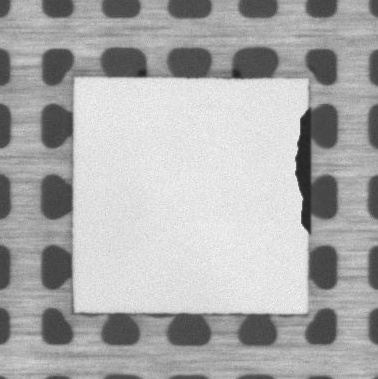DIE_BROKEN: (293, 110, 313, 238)
